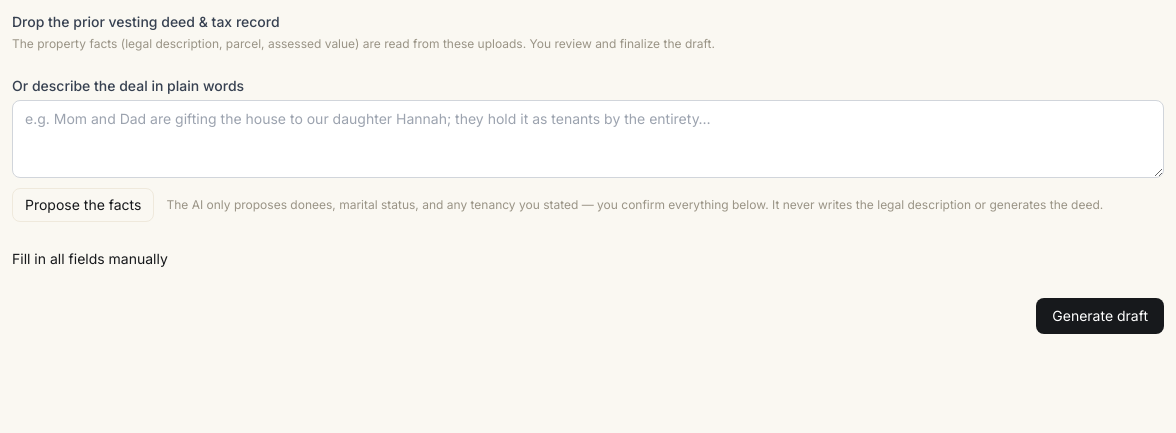
DeedIntake — DEED-INTAKE-REDESIGN-1 + DEED-EXPRESS-1 › free-associate "needs_clarification" surfaces the questions, fills nothing
Replace the text in the text box with test id "deed-intake-freetext" with "someone gets the place" at [588, 139], box [12,100,1164,178]
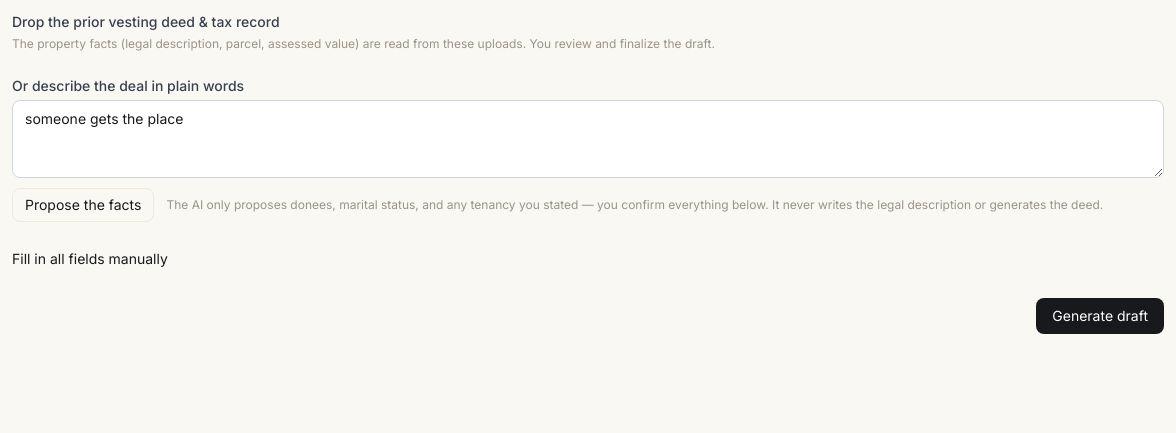
Click the button with test id "deed-intake-propose" at [83, 205], box [12,188,154,222]
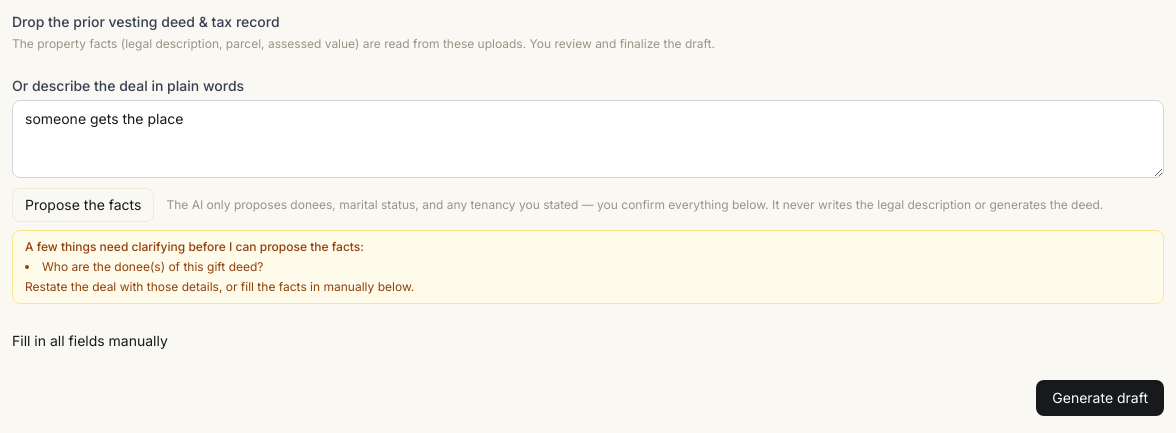
Result: the element with test id "deed-intake-clarify" shows "Who are the donee(s)" at [42,259,264,274]
